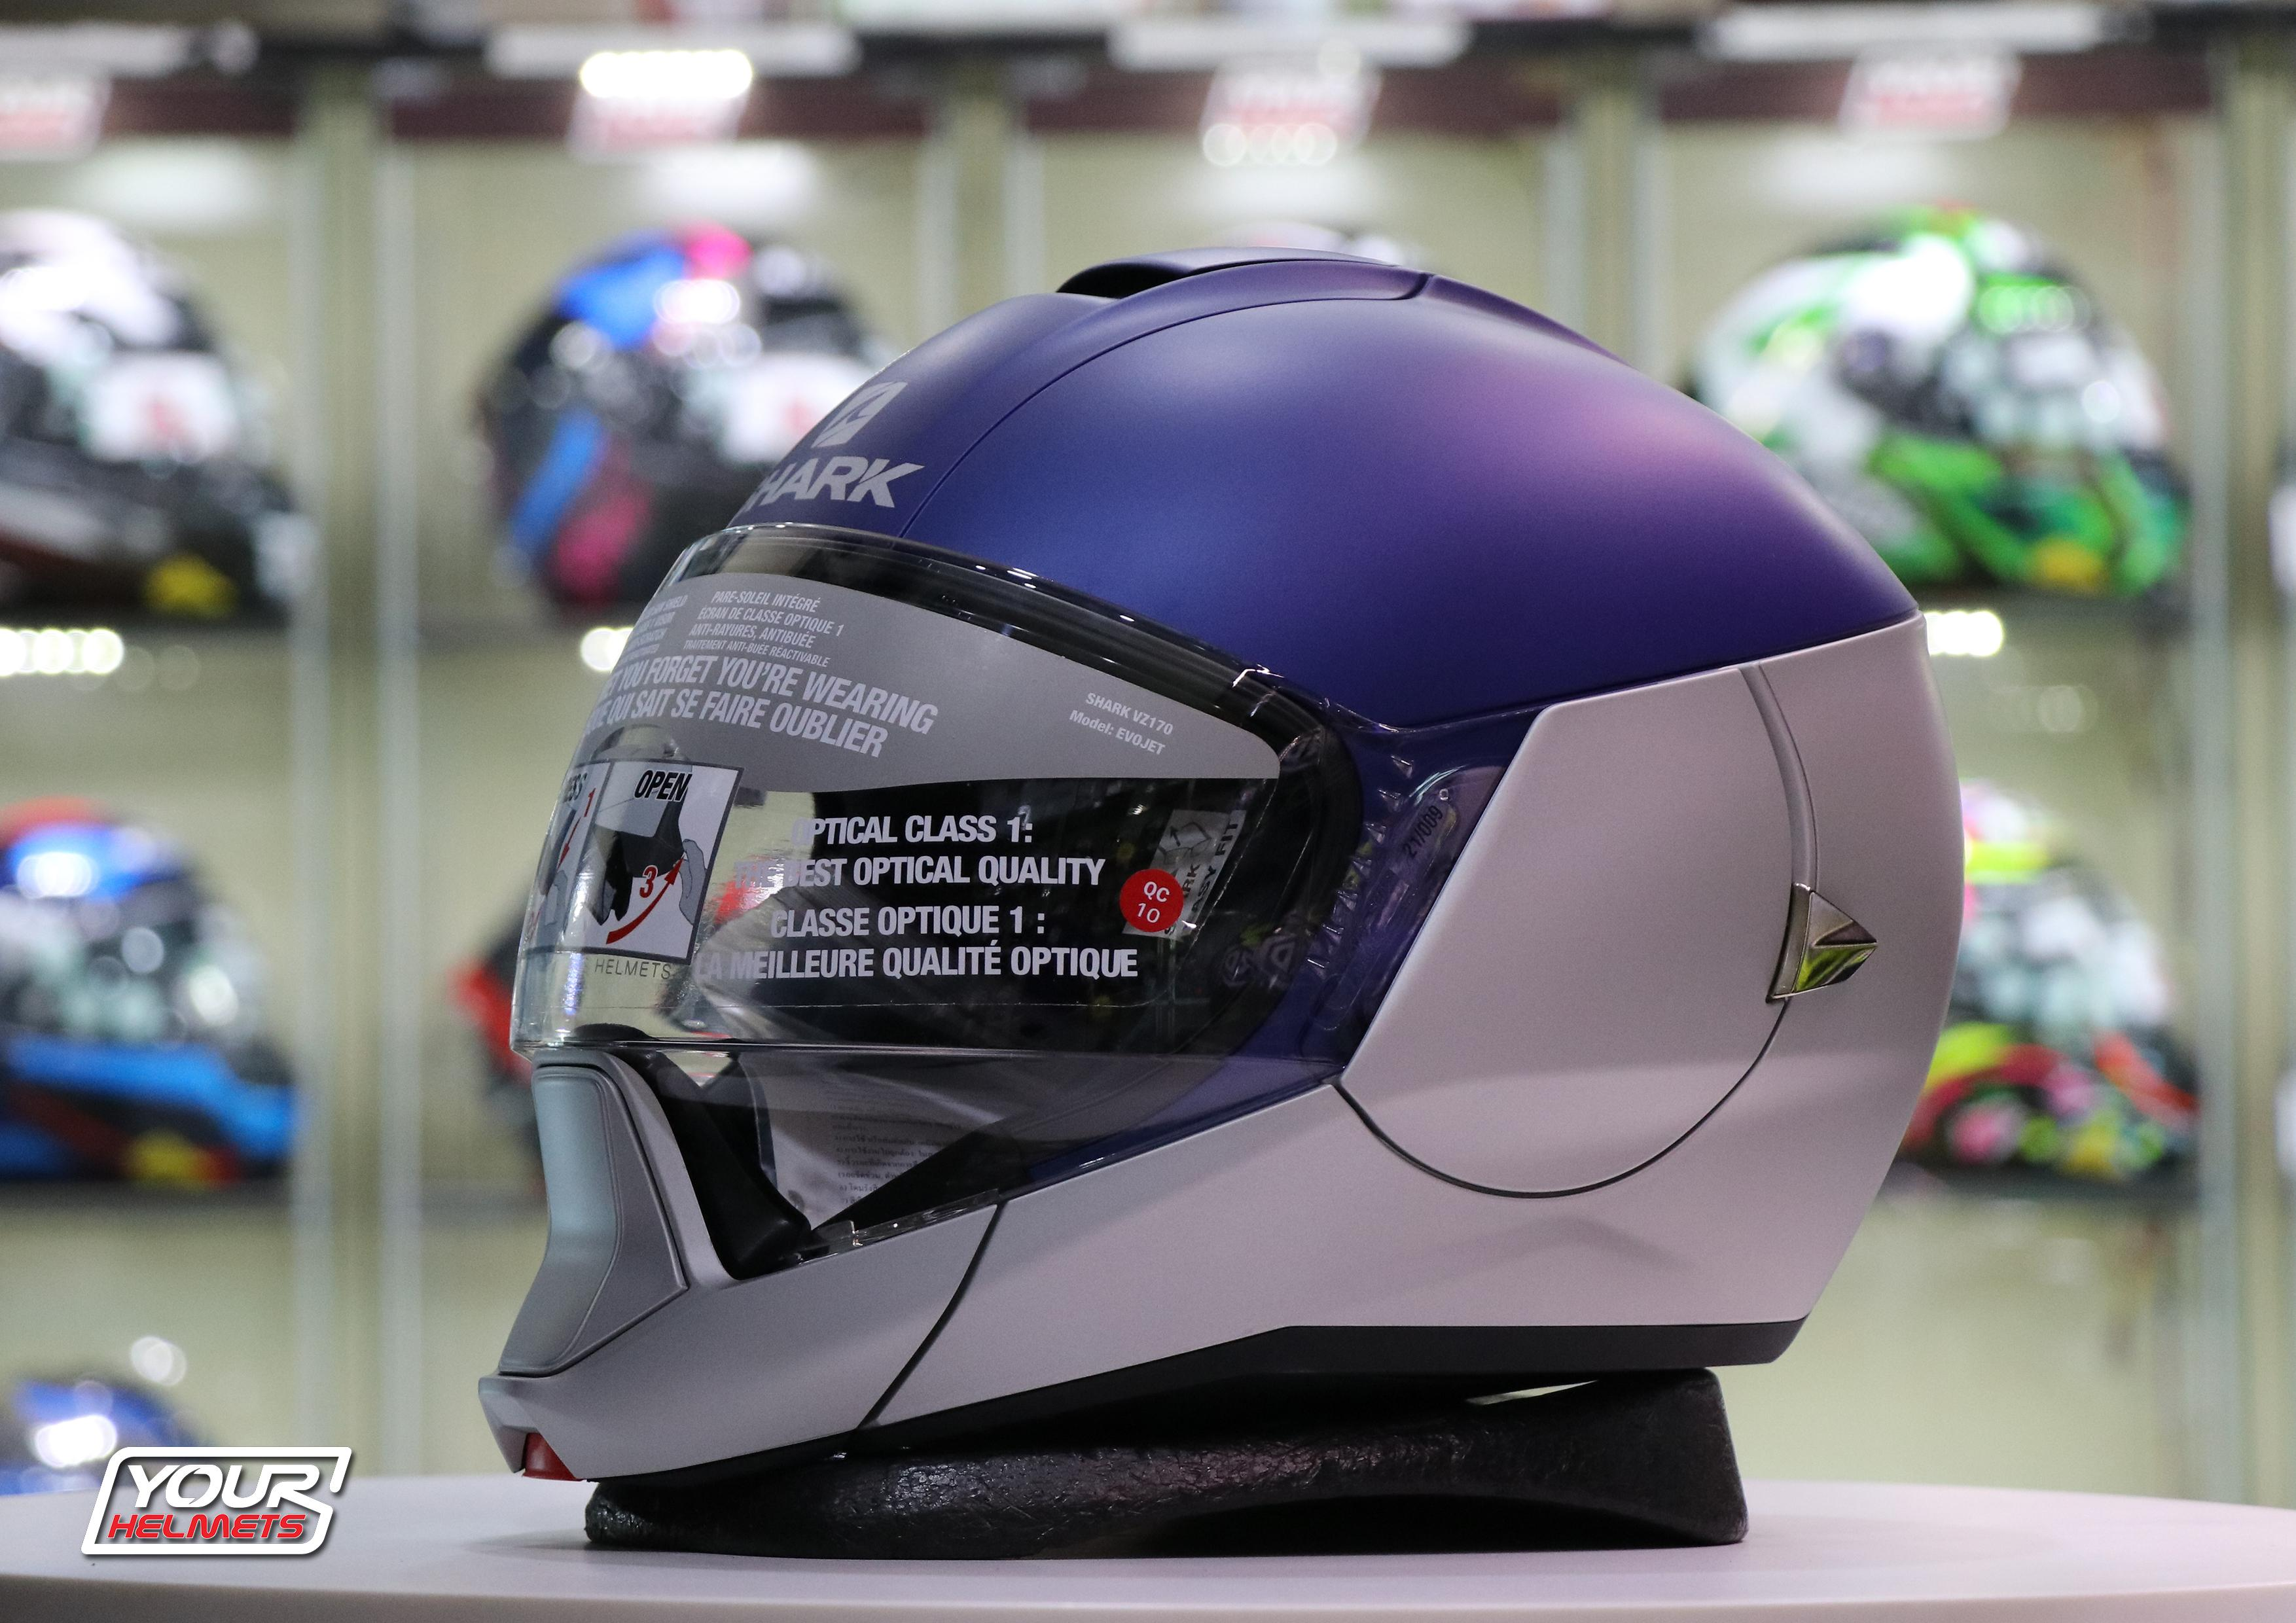helmet: (413, 227, 2004, 1525)
